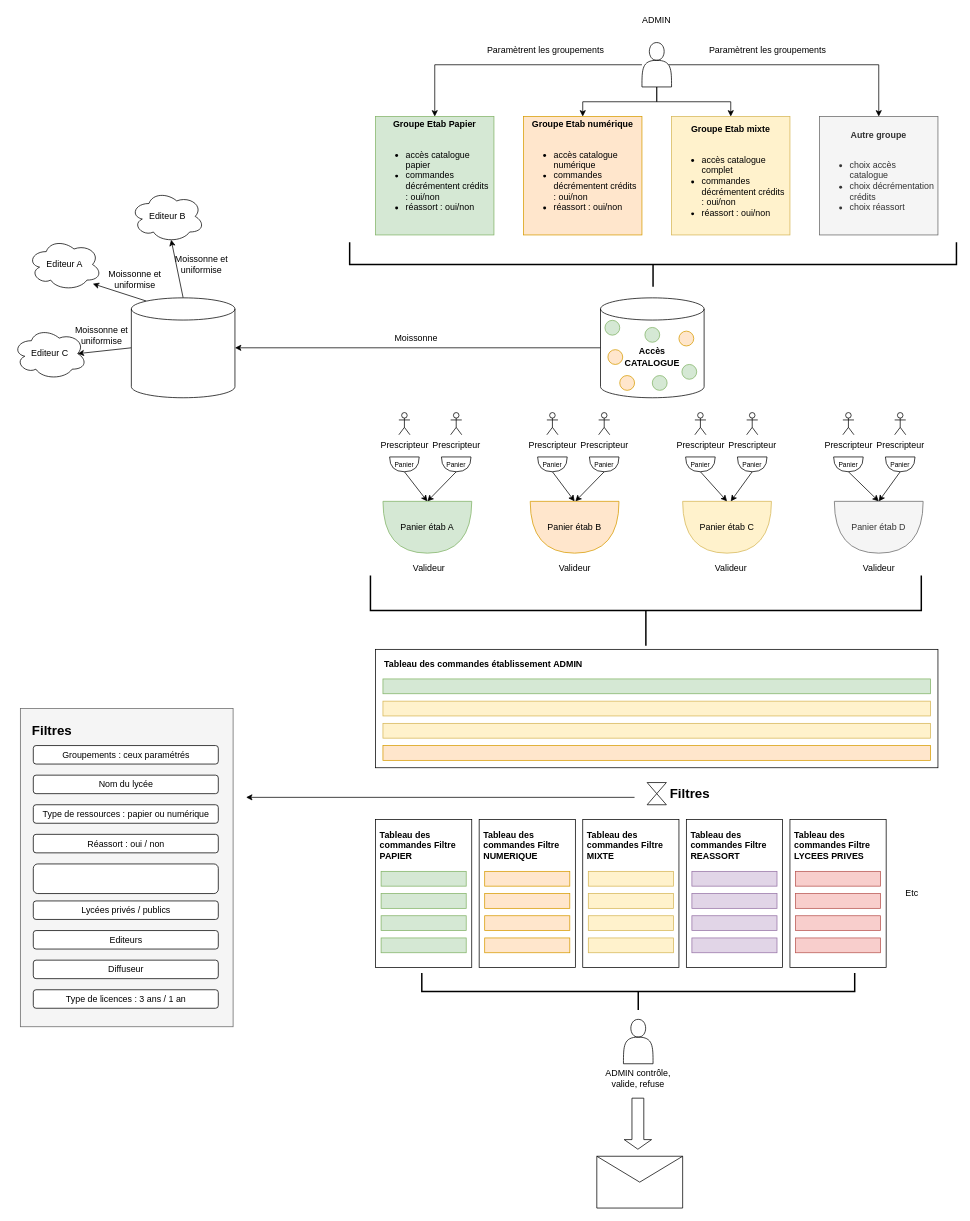
The diagram is 970 pixels wide and 1221 high, and some of its shapes have lost their labels. Here are the shapes that lost their labels. From the top down, the centre of each, then its label:
[183,347]: Catalogue LDE
[645,610]: Passent commande auprès de la Région
[125,878]: Etat de la demande : clôturée, nouveau, refusée, validée, transmise
[639,1182]: CSV des commandes envoyé à LDE par mail
